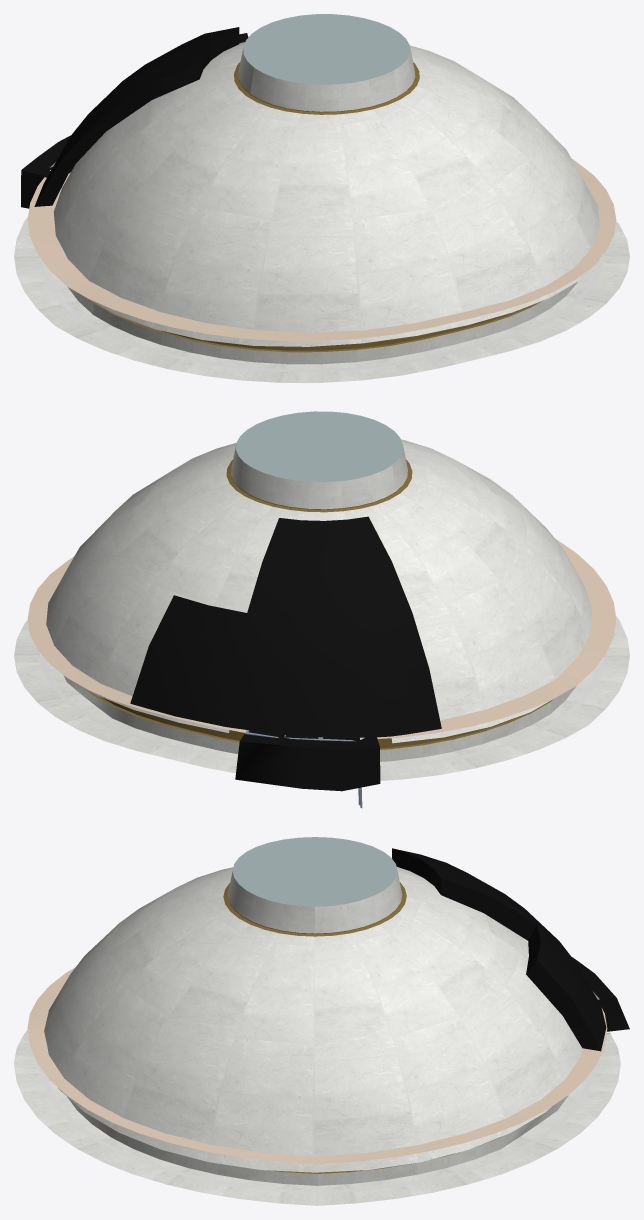
File: DomeTest.fbx
The picture shows the model from 3 angles, top to bottom: view 1: azimuth 30°, elevation 25°; view 2: azimuth 150°, elevation 25°; view 3: azimuth 270°, elevation 25°; orthographic projection.
Visible parts, largest first — view 1: Cylinder.023; view 2: Cylinder.023; view 3: Cylinder.023.
Part boxes in pixels (x1,y1,x2,y2): Cylinder.023: [14, 14, 629, 382]; Cylinder.023: [14, 411, 629, 808]; Cylinder.023: [14, 837, 629, 1205].
Bounding box in the file's own units: 1272 × 555 × 1291.
